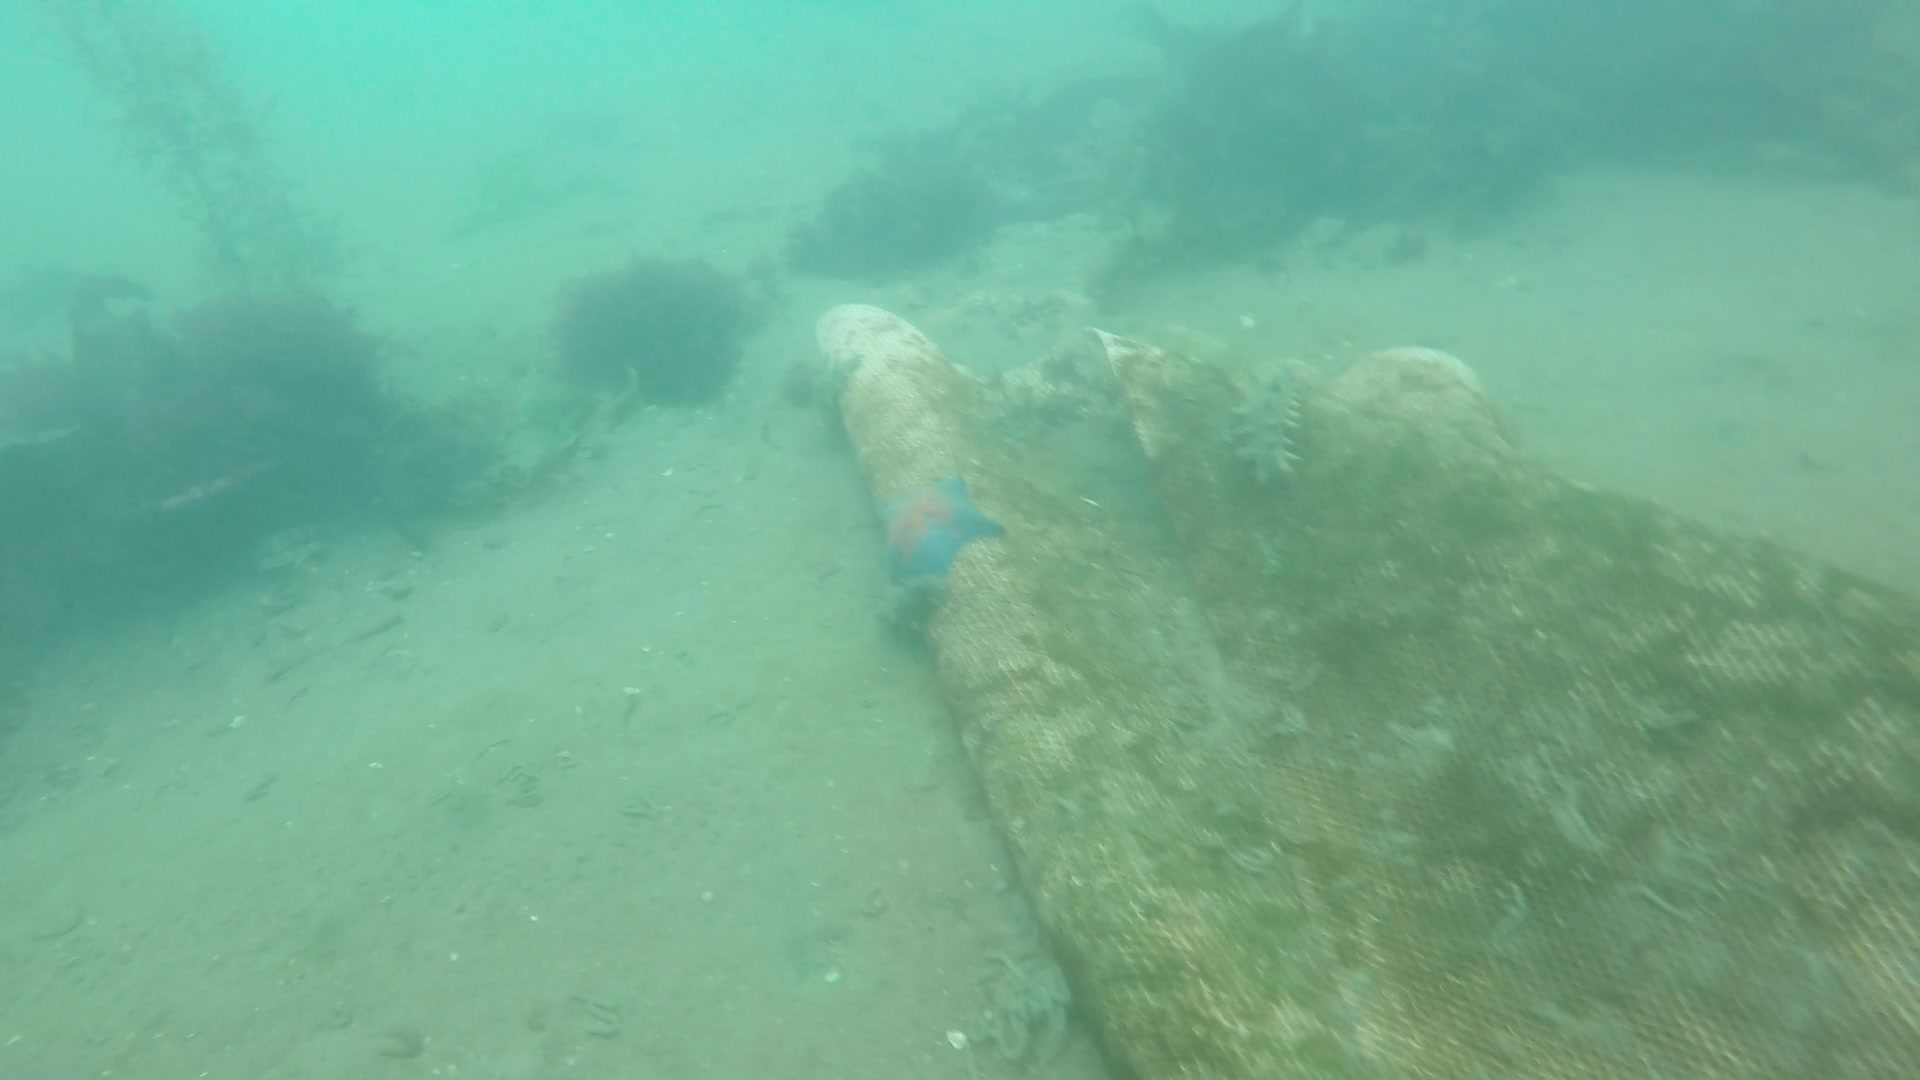holothurian: (1218, 353, 1327, 498)
starfish: (866, 464, 1005, 589)
